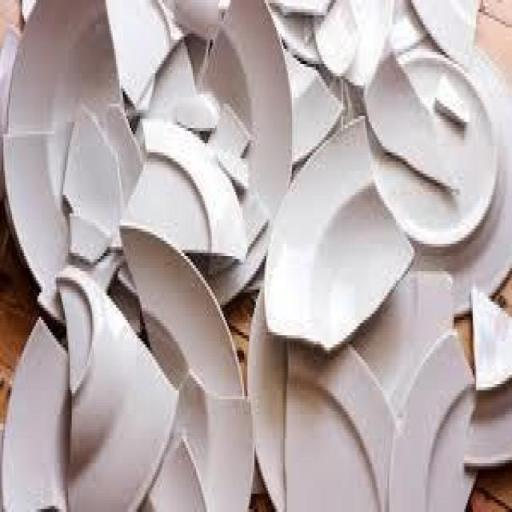glass: (260, 113, 424, 371), (4, 98, 130, 324), (120, 224, 250, 402), (67, 312, 175, 510), (207, 0, 292, 236), (3, 0, 122, 150), (282, 354, 388, 512), (165, 356, 259, 512), (52, 100, 126, 296), (390, 337, 472, 512), (0, 316, 73, 512), (125, 148, 222, 266), (371, 128, 470, 242), (102, 0, 171, 114), (285, 48, 348, 170), (141, 36, 218, 135), (314, 0, 396, 91), (200, 22, 254, 152), (460, 354, 512, 469), (406, 2, 480, 72), (469, 285, 512, 393), (270, 6, 334, 67), (314, 0, 362, 80), (47, 112, 75, 216), (166, 0, 229, 40), (0, 23, 21, 133), (284, 46, 319, 104), (36, 289, 66, 328), (0, 419, 11, 510)
